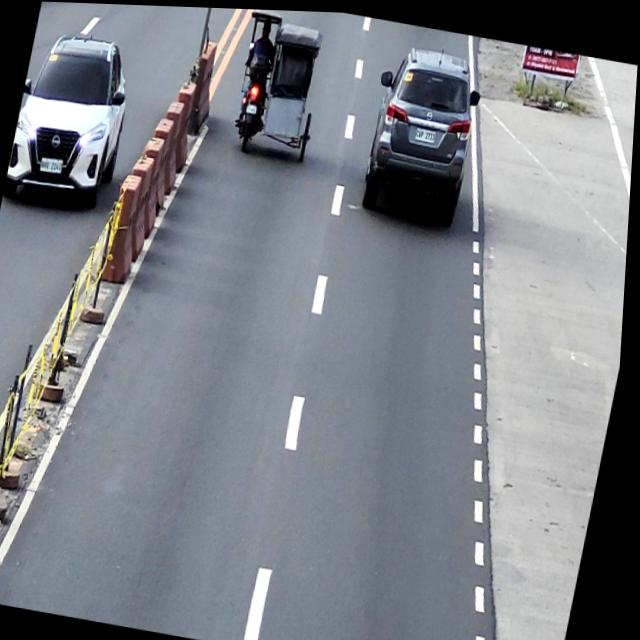Car: (5, 25, 141, 214), (356, 36, 490, 225)
License-Plate: (414, 122, 439, 141), (40, 156, 65, 175), (247, 101, 259, 113)
Tricycle: (225, 7, 334, 163)
